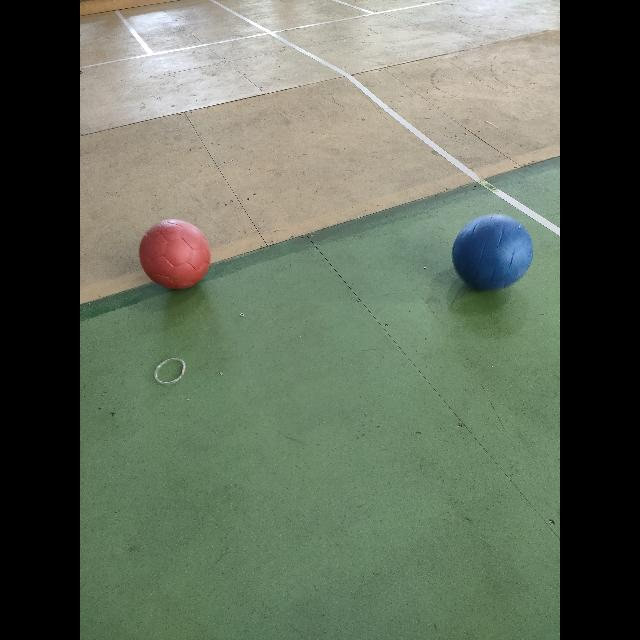B: (452, 214, 532, 290)
R: (139, 219, 210, 289)
